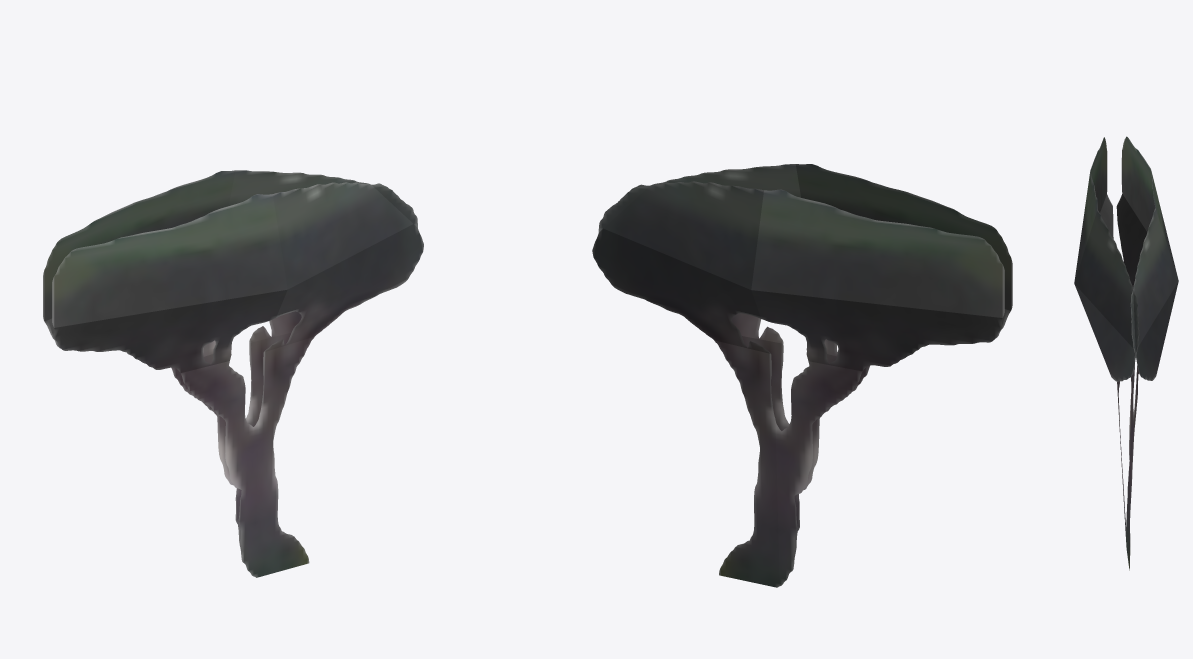
The model's file is BonsaiTree.fbx.
3 renders of one model, left to right at view 1: azimuth 30°, elevation 25°; view 2: azimuth 150°, elevation 25°; view 3: azimuth 270°, elevation 25°, orthographic. The views are drawn at different scales.
Parts seen in each view (by area): view 1: Bonzai; view 2: Bonzai; view 3: Bonzai.
Boxes of the visible parts, x1=… form: Bonzai: x1=43, y1=170, x2=423, y2=577; Bonzai: x1=592, y1=164, x2=1012, y2=587; Bonzai: x1=1074, y1=136, x2=1178, y2=570.
Size of the model in its own units: 1083 by 1082 by 238.
